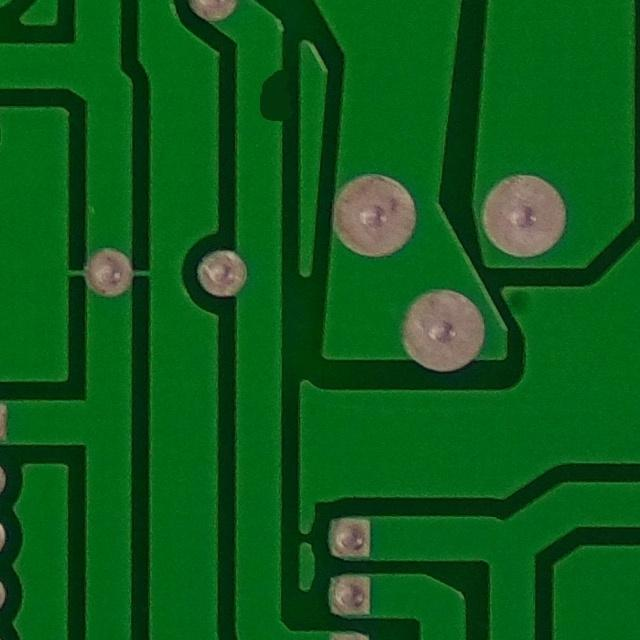mouse_bite: (250, 57, 310, 141)
